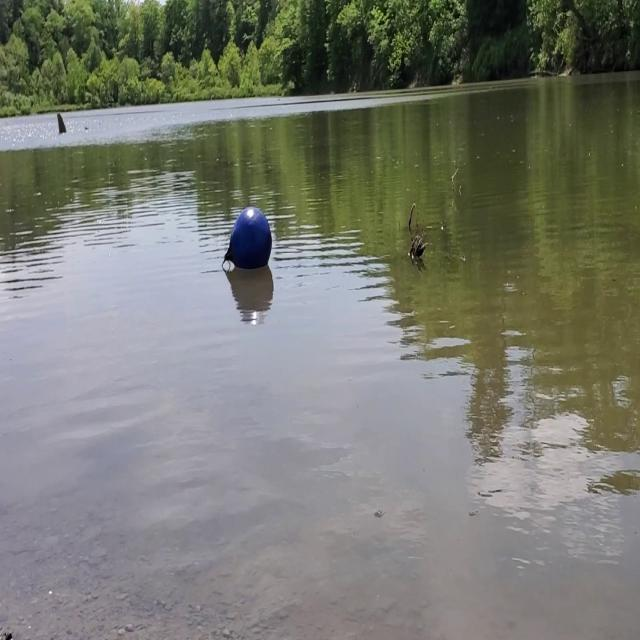buoy: (219, 202, 274, 288)
